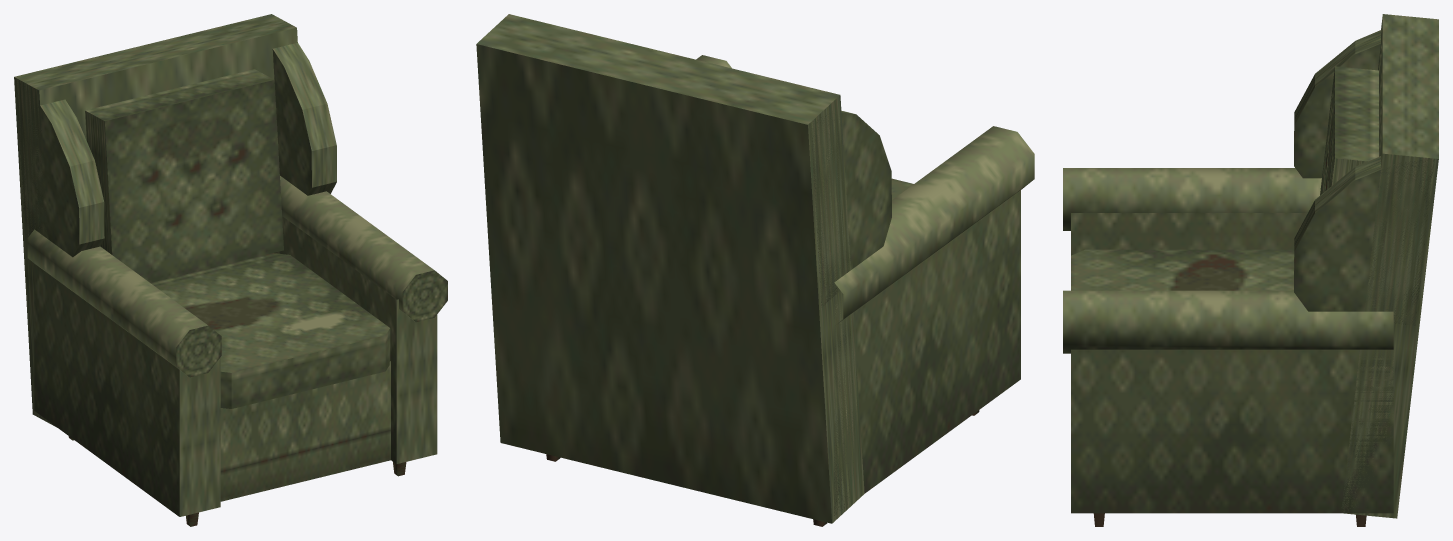
File: armchair_old.obj
The picture shows the model from 3 angles, left to right: view 1: azimuth 30°, elevation 25°; view 2: azimuth 150°, elevation 25°; view 3: azimuth 270°, elevation 25°; orthographic projection. The views are drawn at different scales.
Visible parts, largest first — view 1: armchair_old; view 2: armchair_old; view 3: armchair_old.
Part boxes in pixels (x1,y1,x2,y2): armchair_old: (14,14,447,526); armchair_old: (476,14,1034,526); armchair_old: (1063,14,1438,526).
Size of the model in its own units: 0.8641 by 1.05 by 0.9327.
1 material, 1 textured.
